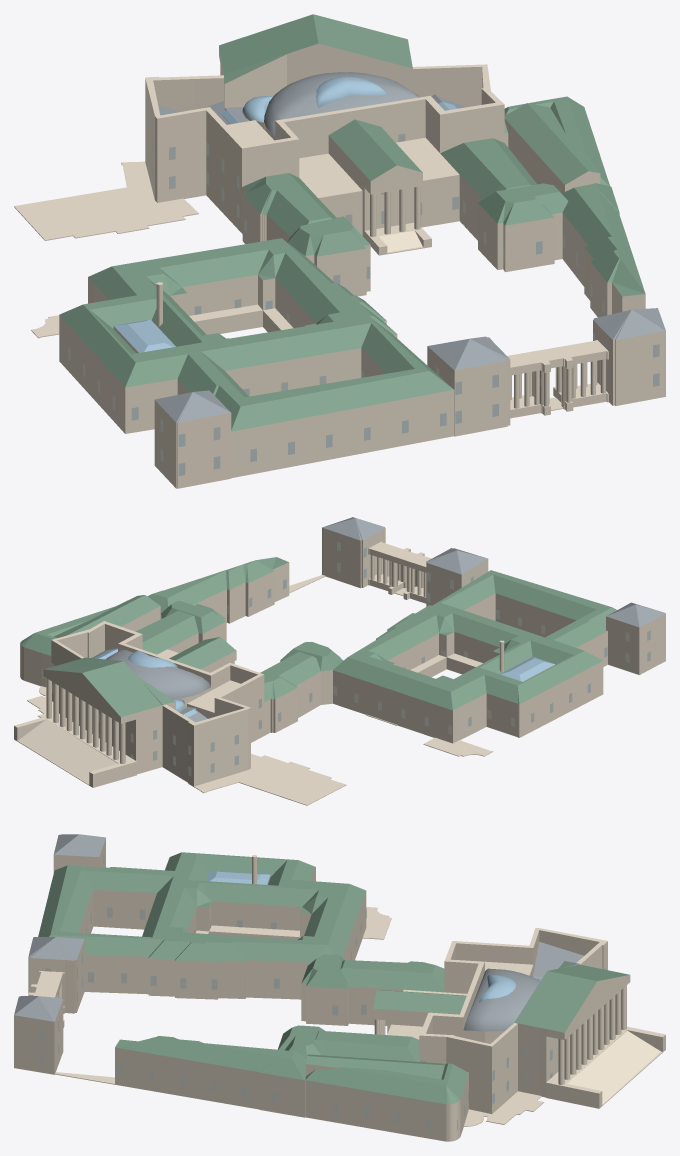
The picture shows the model from 3 angles, top to bottom: view 1: azimuth 30°, elevation 25°; view 2: azimuth 150°, elevation 25°; view 3: azimuth 270°, elevation 25°; orthographic projection. The views are drawn at different scales.
Parts seen in each view (by area): view 1: stone, metal, roof, window, glass; view 2: stone, metal, roof, window, glass; view 3: stone, metal, roof, window, glass.
Part boxes in pixels (x1,y1,x2,y2): stone: [14, 43, 665, 488]; metal: [59, 14, 645, 431]; roof: [155, 72, 665, 422]; window: [68, 121, 659, 476]; glass: [114, 76, 456, 352]; stone: [14, 527, 665, 805]; metal: [20, 557, 616, 716]; roof: [91, 517, 665, 722]; window: [20, 541, 650, 776]; glass: [95, 649, 554, 717]; stone: [14, 838, 665, 1141]; metal: [38, 852, 629, 1104]; roof: [14, 834, 583, 1031]; window: [39, 853, 606, 1129]; glass: [206, 870, 542, 1002].
Bounding box in the file's own units: 164 × 27.4 × 177.
